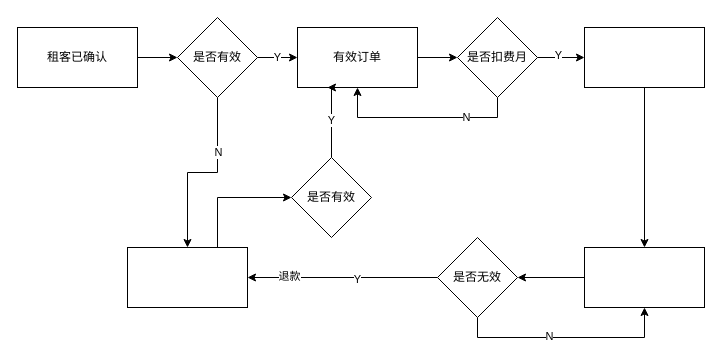
This 722x363 diagram has some shape labels left out. The box of each missing label's shape, as (x1, y1, x2, y2) in pixels:
已支付: (584, 246, 704, 308)
待支付订单: (584, 26, 704, 88)
无效订单: (126, 246, 248, 308)
